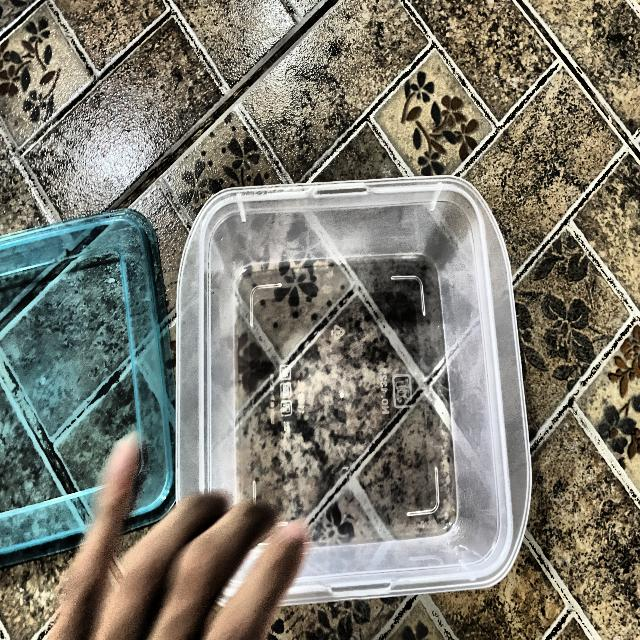plastic container: (6, 198, 551, 581)
